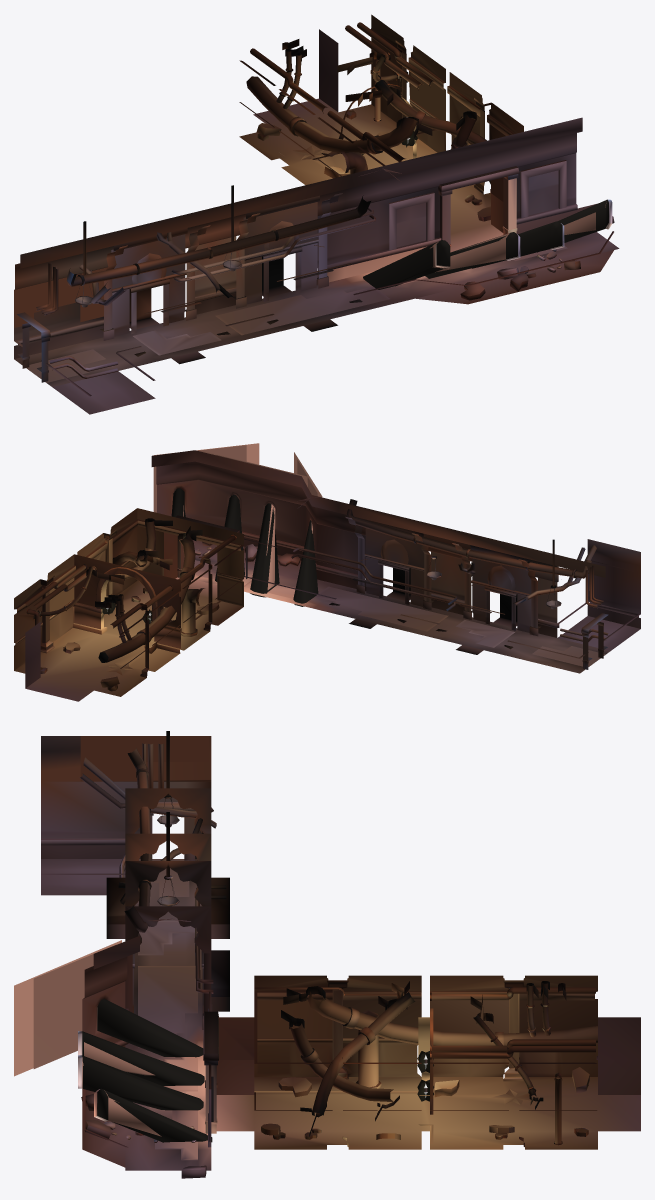
File: 02Elbow.gltf
3 renders of one model, top to bottom at view 1: azimuth 30°, elevation 25°; view 2: azimuth 150°, elevation 25°; view 3: azimuth 270°, elevation 25°, orthographic. The views are drawn at different scales.
Parts seen in each view (by area): view 1: stg033_o05_Mesh_0009, stg033_o06_Mesh_0004, stg033_o06_Mesh_0005, stg033_o06_Mesh_0014, stg033_o05_Mesh_0011, stg033_o05_Mesh_0007, stg033_o06_Mesh_0008, stg033_o06_Mesh_0026, stg033_o06_Mesh_0029, stg033_g06_Mesh_0000, stg033_o05_Mesh_0005, stg033_o05_Mesh_0010 (+11 smaller); view 2: stg033_o05_Mesh_0009, stg033_o06_Mesh_0026, stg033_o06_Mesh_0004, stg033_o05_Mesh_0011, stg033_o06_Mesh_0005, stg033_o05_Mesh_0007, stg033_o05_Mesh_0005, stg033_o06_Mesh_0014, stg033_o06_Mesh_0027, stg033_o06_Mesh_0029, stg033_o06_Mesh_0008, stg033_g06_Mesh_0000 (+15 smaller); view 3: stg033_o05_Mesh_0011, stg033_o05_Mesh_0009, stg033_o05_Mesh_0007, stg033_g06_Mesh_0000, stg033_o06_Mesh_0005, stg033_o06_Mesh_0008, stg033_o05_Mesh_0008, stg033_o05_Mesh_0005, stg033_o06_Mesh_0030, stg033_o06_Mesh_0026, stg033_k06_Mesh_0001, stg033_o06_Mesh_0027 (+12 smaller).
Part boxes in pixels (<box>): stg033_o05_Mesh_0009: <box>36,22,486,378</box>; stg033_o06_Mesh_0004: <box>15,117,582,281</box>; stg033_o06_Mesh_0005: <box>14,14,619,414</box>; stg033_o06_Mesh_0014: <box>14,144,576,373</box>; stg033_o05_Mesh_0011: <box>239,98,503,252</box>; stg033_o05_Mesh_0007: <box>20,67,613,411</box>; stg033_o06_Mesh_0008: <box>17,247,562,382</box>; stg033_o06_Mesh_0026: <box>14,153,576,340</box>; stg033_o06_Mesh_0029: <box>111,202,317,327</box>; stg033_g06_Mesh_0000: <box>363,199,608,289</box>; stg033_o05_Mesh_0005: <box>17,29,518,371</box>; stg033_o05_Mesh_0010: <box>256,39,614,300</box>; stg033_o05_Mesh_0009: <box>24,499,608,662</box>; stg033_o06_Mesh_0026: <box>157,480,640,623</box>; stg033_o06_Mesh_0004: <box>151,450,640,577</box>; stg033_o05_Mesh_0011: <box>14,577,243,701</box>; stg033_o06_Mesh_0005: <box>14,508,640,673</box>; stg033_o05_Mesh_0007: <box>14,540,632,688</box>; stg033_o05_Mesh_0005: <box>15,517,607,666</box>; stg033_o06_Mesh_0014: <box>156,473,640,666</box>; stg033_o06_Mesh_0027: <box>14,485,640,674</box>; stg033_o06_Mesh_0029: <box>365,528,531,625</box>; stg033_o06_Mesh_0008: <box>194,561,605,666</box>; stg033_g06_Mesh_0000: <box>171,488,318,606</box>; stg033_o05_Mesh_0011: <box>216,1077,640,1149</box>; stg033_o05_Mesh_0009: <box>79,743,597,1145</box>; stg033_o05_Mesh_0007: <box>41,859,640,1170</box>; stg033_g06_Mesh_0000: <box>82,998,212,1142</box>; stg033_o06_Mesh_0005: <box>41,859,597,1170</box>; stg033_o06_Mesh_0008: <box>85,736,205,1158</box>; stg033_o05_Mesh_0008: <box>132,853,597,1136</box>; stg033_o05_Mesh_0005: <box>132,811,640,1121</box>; stg033_o06_Mesh_0030: <box>125,788,211,953</box>; stg033_o06_Mesh_0026: <box>41,781,211,1042</box>; stg033_k06_Mesh_0001: <box>33,945,115,1068</box>; stg033_o06_Mesh_0027: <box>41,830,597,1140</box>.
Bounding box in the file's own units: 90.73 × 20.47 × 72.96.
